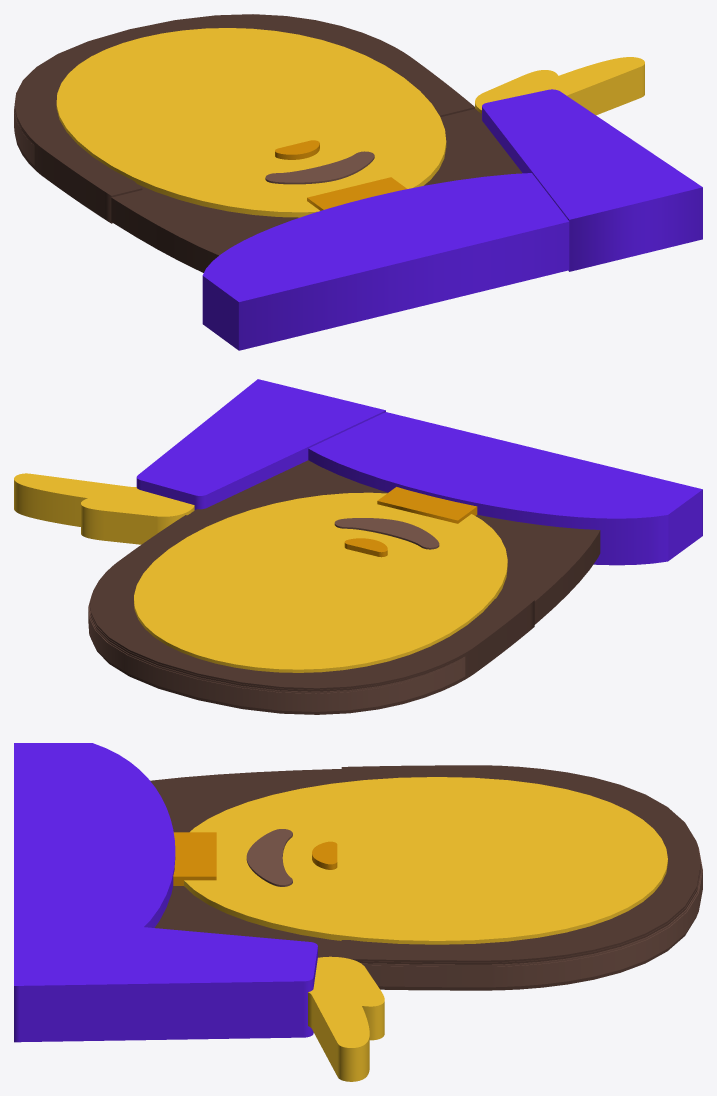
The model's file is emoji_u1f481_200d_2640.glb.
The picture shows the model from 3 angles, top to bottom: view 1: azimuth 30°, elevation 25°; view 2: azimuth 150°, elevation 25°; view 3: azimuth 270°, elevation 25°; orthographic projection. The views are drawn at different scales.
Parts seen in each view (by area): view 1: emoji_u1f481_200d_2640; view 2: emoji_u1f481_200d_2640; view 3: emoji_u1f481_200d_2640.
Part boxes in pixels (x1=…): emoji_u1f481_200d_2640: x1=14, y1=14, x2=702, y2=350; emoji_u1f481_200d_2640: x1=14, y1=379, x2=702, y2=714; emoji_u1f481_200d_2640: x1=14, y1=743, x2=702, y2=1081.
Bounding box in the file's own units: 0.0338 × 0.003 × 0.0333.
